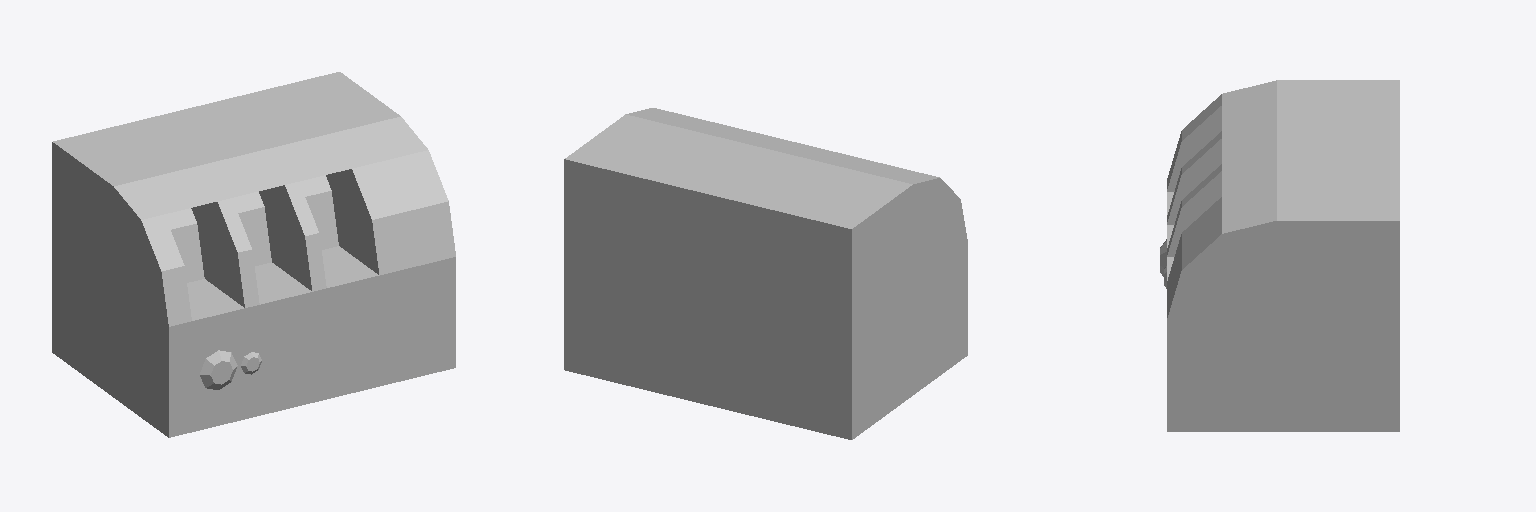
The model's file is gatcha.obj.
The picture shows the model from 3 angles: view 1: azimuth 30°, elevation 25°; view 2: azimuth 150°, elevation 25°; view 3: azimuth 270°, elevation 25°; orthographic projection.
Parts seen in each view (by area): view 1: Cube.007; view 2: Cube.007; view 3: Cube.007.
Part boxes in pixels (left/top/right/bottom): Cube.007: left=52, top=72, right=455, bottom=437; Cube.007: left=564, top=108, right=967, bottom=439; Cube.007: left=1160, top=80, right=1399, bottom=431.
Size of the model in its own units: 0.6823 by 0.4788 by 0.4925.